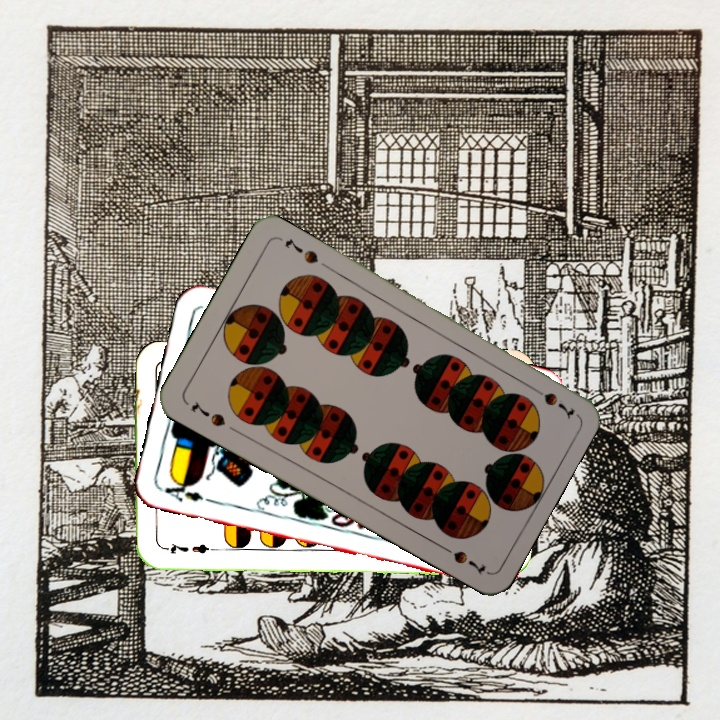E7: (156, 539, 215, 557)
EA: (161, 475, 206, 505)
S7: (524, 380, 578, 419), (187, 397, 228, 430)
